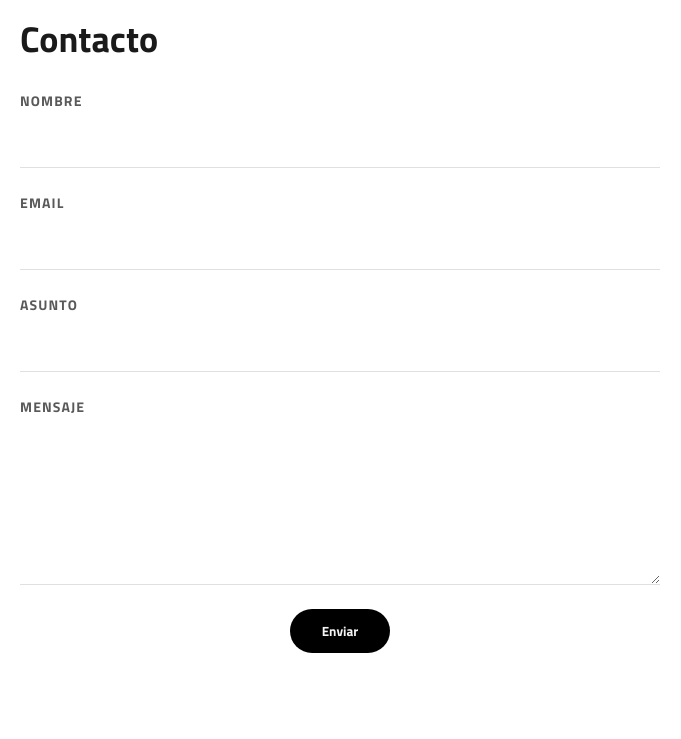
Scenario: ContactForm › envía el formulario y limpia los campos al tener éxito
In the field labelled "Nombre": (340, 144) [20,119,660,168], type "Ana"
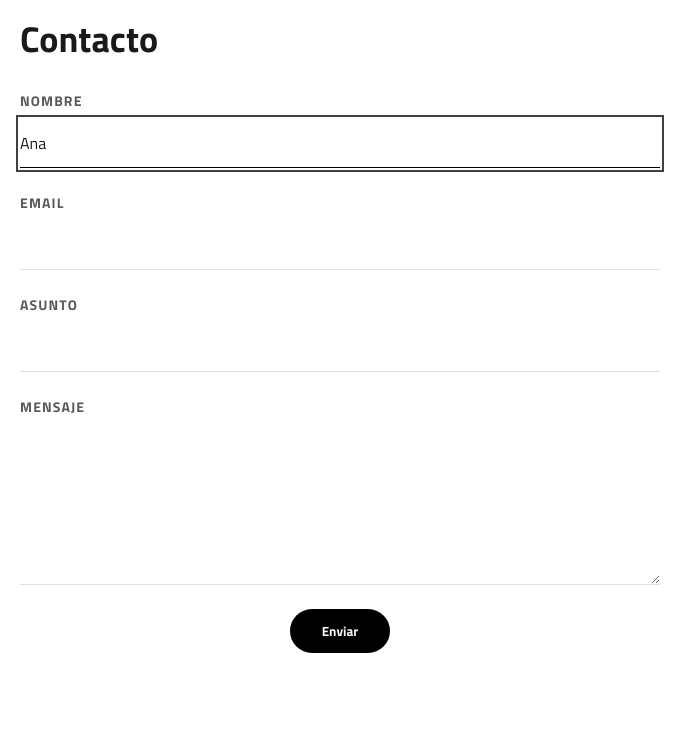
In the field labelled "Email": (340, 246) [20,221,660,270], type "ana@example.com"
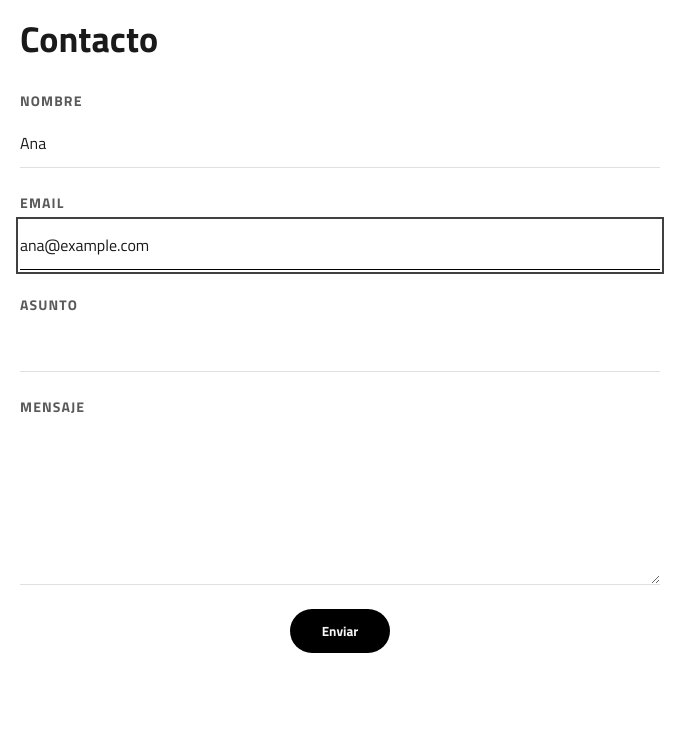
In the field labelled "Asunto": (340, 348) [20,323,660,372], type "Hola"
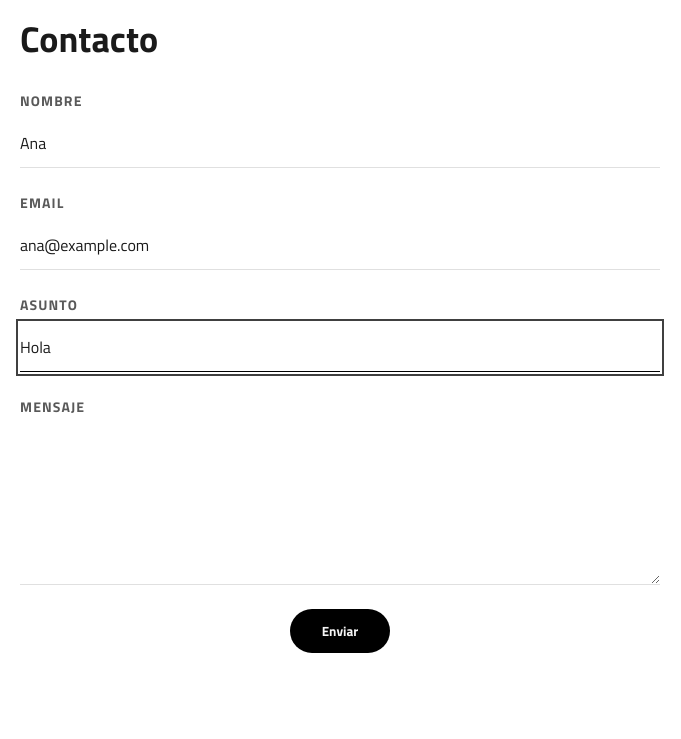
In the text box labelled "Mensaje": (340, 505) [20,425,660,585], type "Quiero comprar una obra"
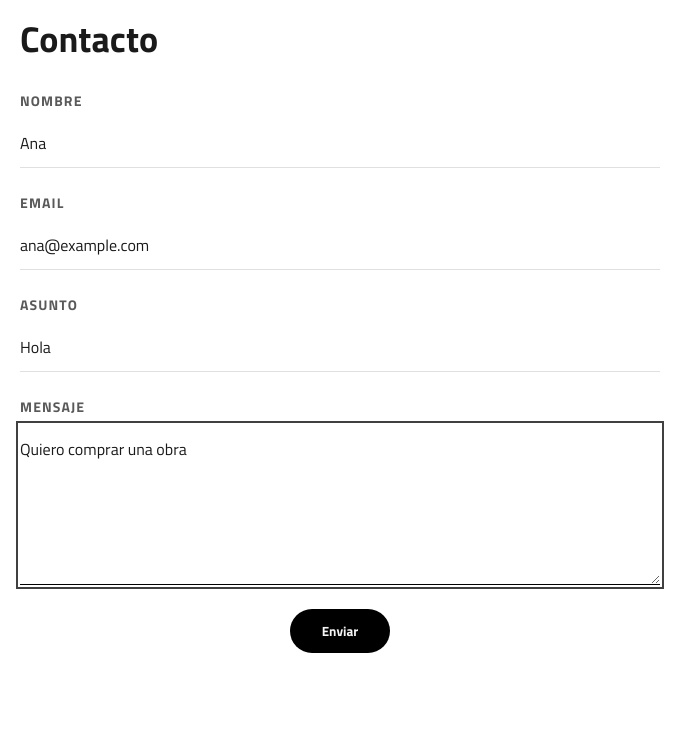
Click the button "Enviar": (340, 631) [290,609,390,653]
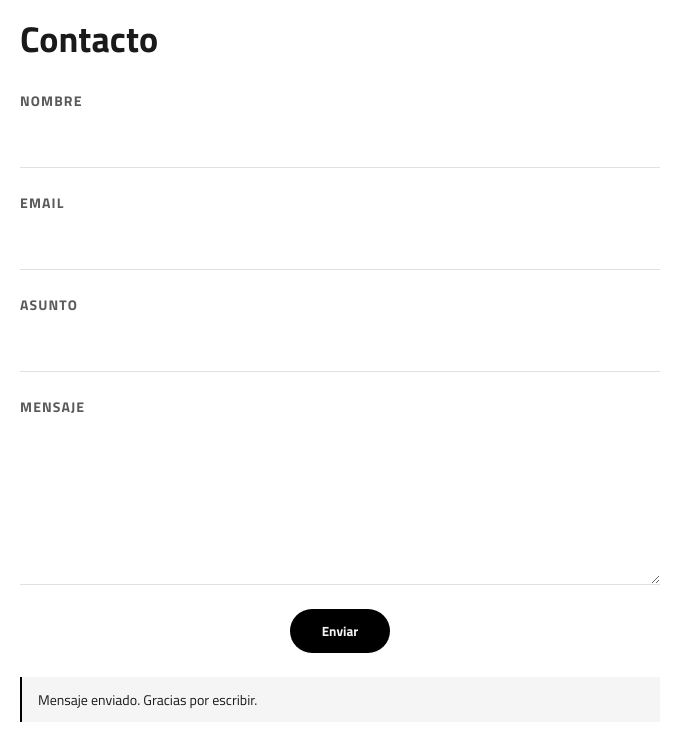
Check: the text "Mensaje enviado. Gracias por escribir." is shown, box [20,677,660,722]
Check: the field labelled "Nombre" is empty, box [20,119,660,168]
